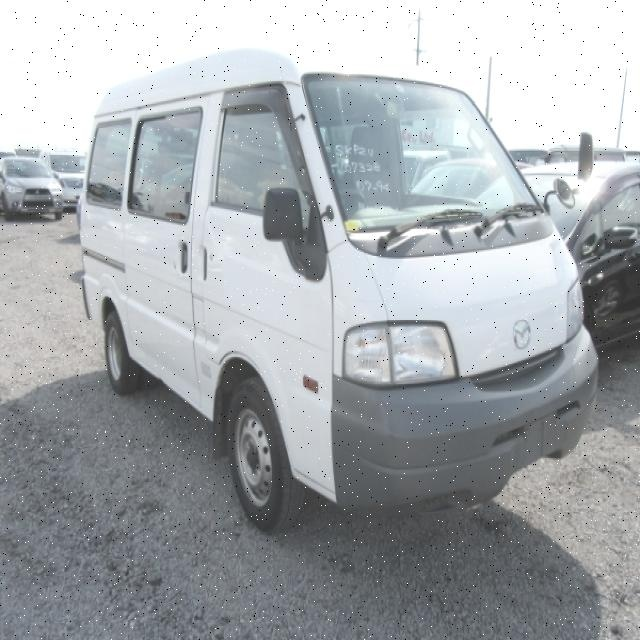Van: (78, 54, 597, 538)
